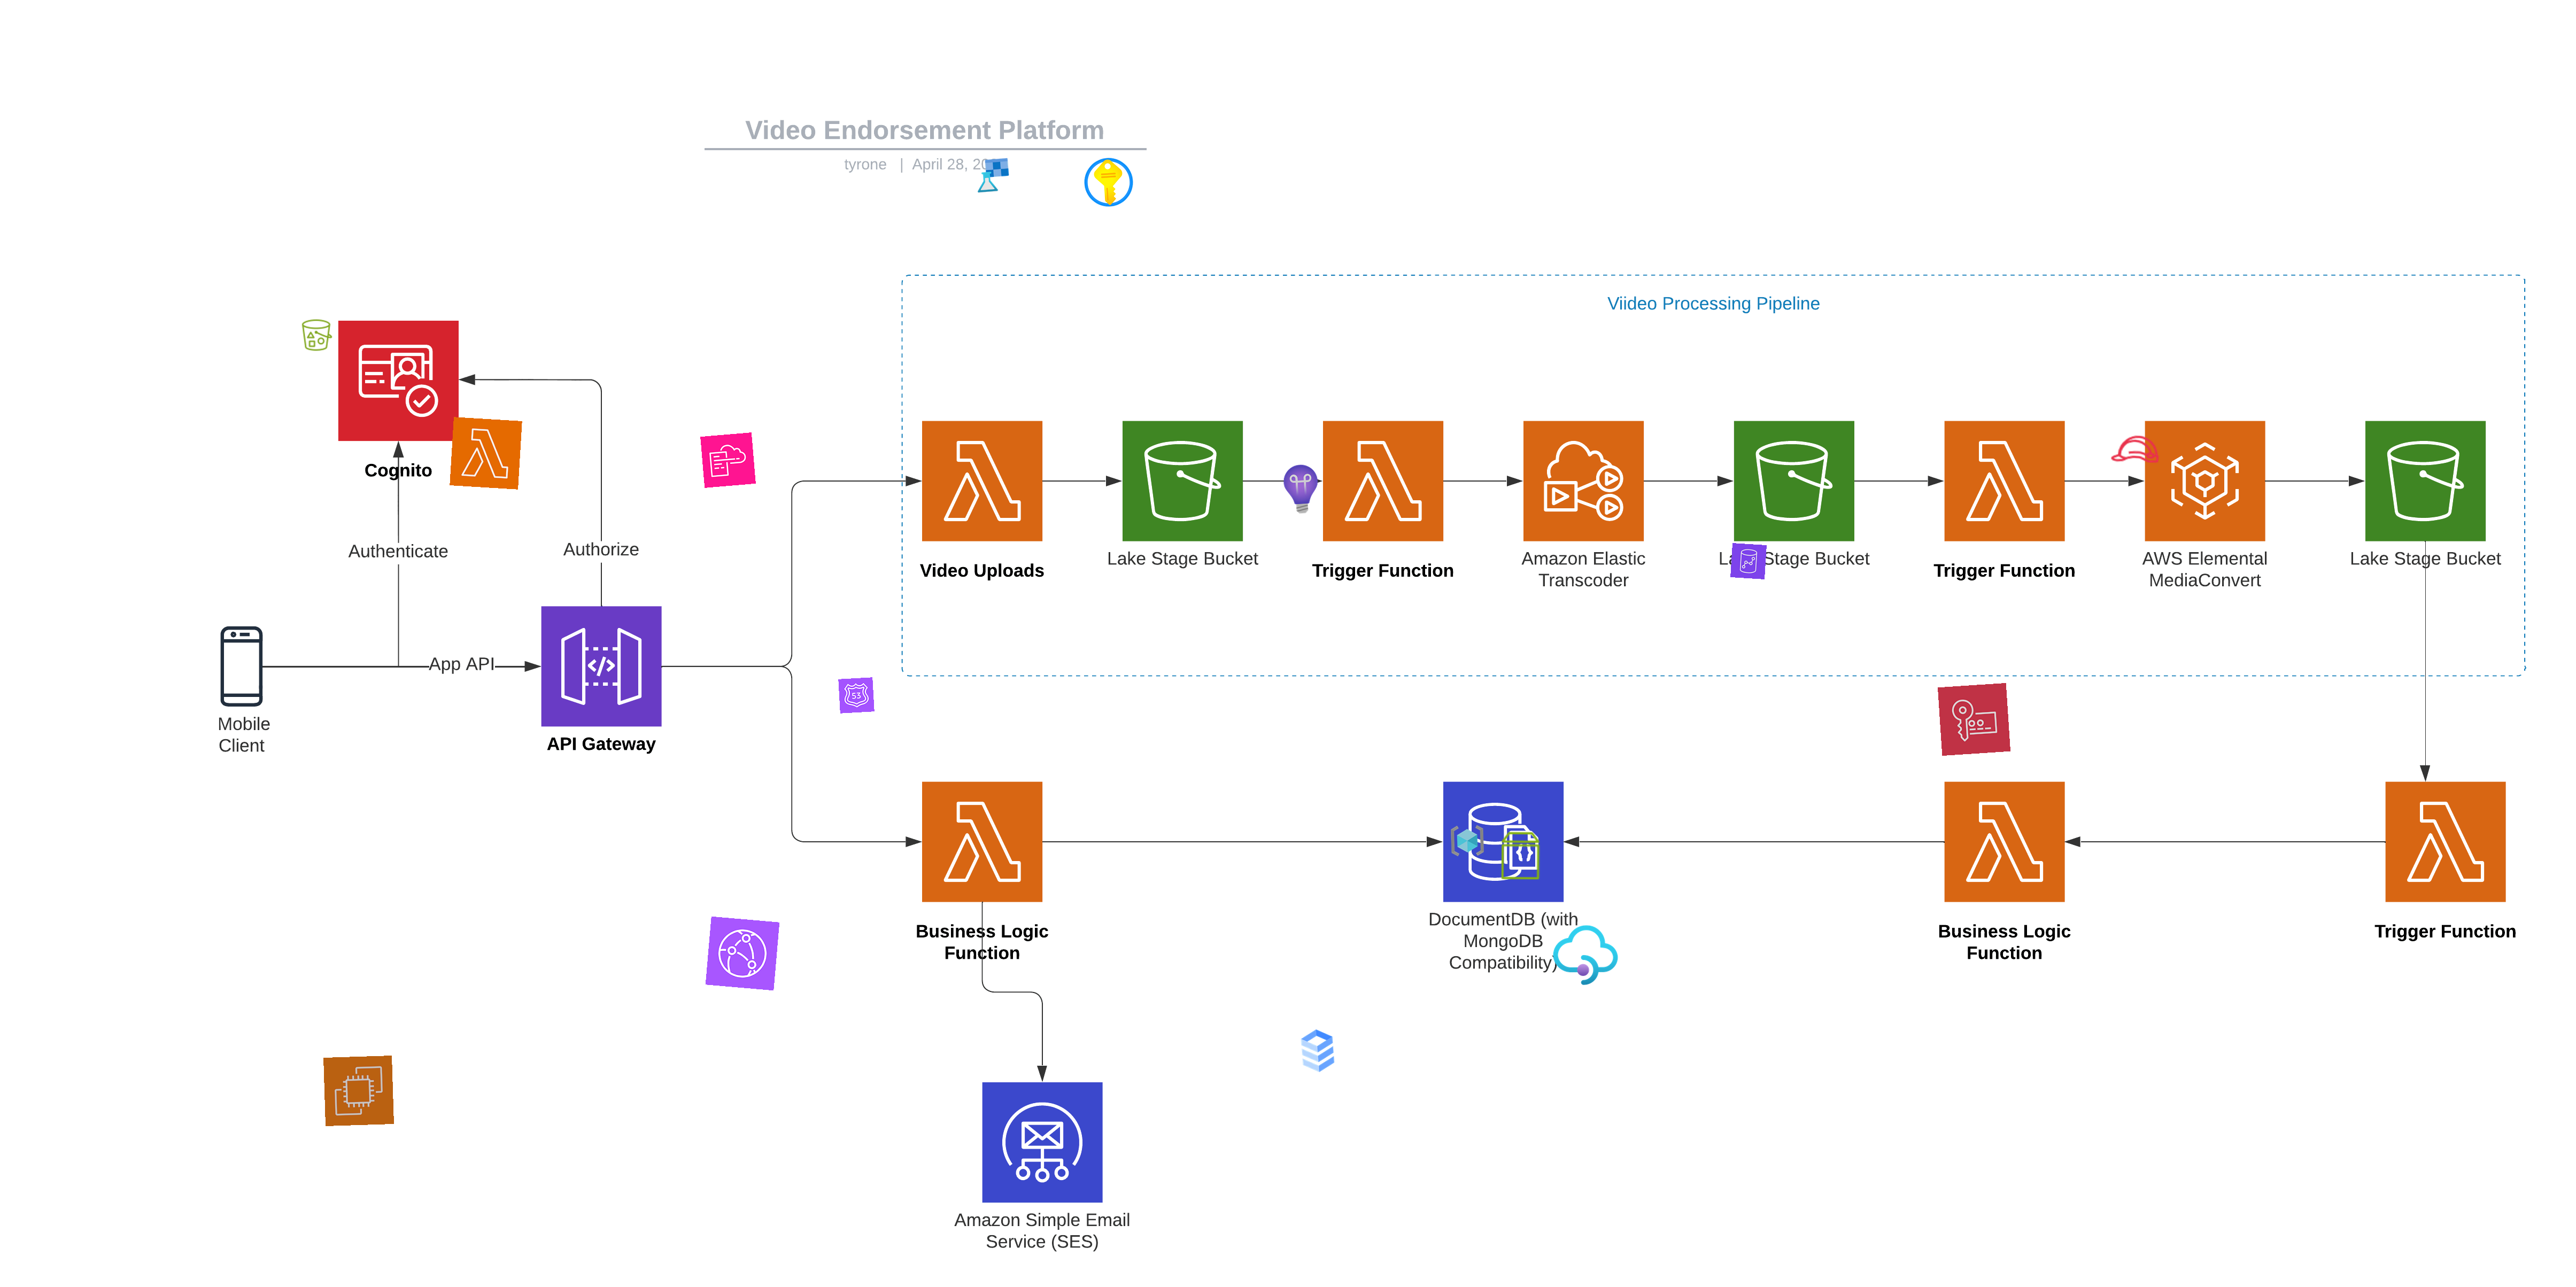aws_amazon_cloudfront: (705, 916, 780, 992)
aws_amazon_ec2: (324, 1056, 394, 1126)
aws_amazon_redshift: (1730, 543, 1766, 579)
aws_amazon_route_53: (838, 678, 874, 714)
aws_cloudformation: (700, 432, 756, 488)
aws_elastic_block_store_volume: (1495, 829, 1548, 882)
aws_identity_access_management_role: (2108, 422, 2164, 478)
aws_key_management_service: (1937, 683, 2011, 757)
aws_lambda: (450, 417, 522, 489)
aws_simple_storage_service_bucket_with_objects: (299, 317, 335, 353)
azure_api_management_services: (1551, 921, 1620, 990)
azure_application_insights: (1273, 461, 1329, 517)
azure_key_vaults: (1081, 154, 1135, 210)
azure_machine_learning_studio_workspaces: (974, 156, 1012, 194)
azure_resource_groups: (1449, 822, 1485, 859)
gcp_cloud_sql: (1290, 1023, 1346, 1079)
